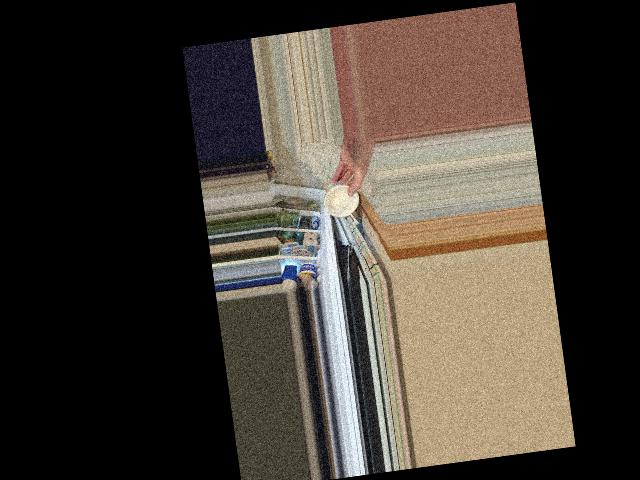cotage: (322, 178, 357, 220)
